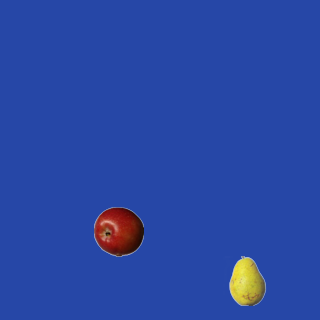Apple Braeburn: (93, 206, 143, 256)
Pear Monster: (222, 255, 272, 305)
